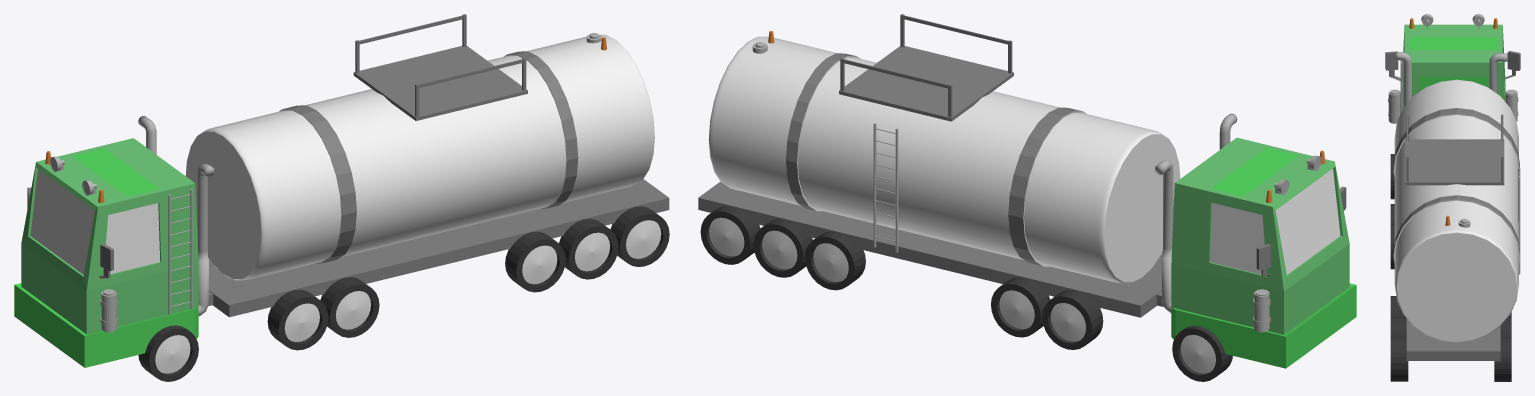
Rendered from Oil Green.fbx.
The picture shows the model from 3 angles, left to right: view 1: azimuth 30°, elevation 25°; view 2: azimuth 150°, elevation 25°; view 3: azimuth 270°, elevation 25°; orthographic projection. The views are drawn at different scales.
Visible parts, largest first — view 1: Cylinder.050, Truck Body.006, Cube.008, Cylinder.064, Cylinder.068, Cylinder.066, Cylinder.065, Cylinder.067, Cylinder.063, Cylinder.051, Cylinder.054, Cylinder.059; view 2: Cylinder.050, Truck Body.006, Cube.008, Cylinder.071, Cylinder.073, Cylinder.070, Cylinder.074, Cylinder.072, Cylinder.069, Cylinder.052, Cylinder.053, Cylinder.060; view 3: Cylinder.050, Truck Body.006, Cube.008, Cylinder.067, Cylinder.074, Cylinder.051, Cylinder.052, Cylinder.059, Cylinder.066, Cube.009, Cube.010, Cylinder.060 (+8 smaller).
Boxes of the visible parts, left/top/right/bottom form: Cylinder.050: left=185, top=34, right=654, bottom=280; Truck Body.006: left=14, top=138, right=669, bottom=367; Cube.008: left=353, top=14, right=527, bottom=120; Cylinder.064: left=267, top=289, right=328, bottom=350; Cylinder.068: left=505, top=231, right=565, bottom=292; Cylinder.066: left=559, top=219, right=618, bottom=279; Cylinder.065: left=320, top=277, right=379, bottom=337; Cylinder.067: left=610, top=206, right=669, bottom=266; Cylinder.063: left=138, top=325, right=198, bottom=381; Cylinder.051: left=197, top=164, right=214, bottom=316; Cylinder.054: left=168, top=189, right=192, bottom=314; Cylinder.059: left=100, top=289, right=117, bottom=332; Cylinder.050: left=708, top=36, right=1180, bottom=283; Truck Body.006: left=698, top=137, right=1356, bottom=368; Cube.008: left=839, top=14, right=1013, bottom=121; Cylinder.071: left=1042, top=290, right=1103, bottom=349; Cylinder.073: left=805, top=231, right=865, bottom=290; Cylinder.070: left=991, top=277, right=1050, bottom=337; Cylinder.074: left=700, top=206, right=760, bottom=264; Cylinder.072: left=753, top=219, right=812, bottom=277; Cylinder.069: left=1172, top=326, right=1232, bottom=381; Cylinder.052: left=1155, top=160, right=1173, bottom=312; Cylinder.053: left=873, top=123, right=898, bottom=252; Cylinder.060: left=1253, top=289, right=1270, bottom=332; Cylinder.050: left=1393, top=79, right=1519, bottom=342; Truck Body.006: left=1402, top=24, right=1505, bottom=360; Cube.008: left=1405, top=114, right=1504, bottom=185; Cylinder.067: left=1390, top=336, right=1408, bottom=381; Cylinder.074: left=1494, top=336, right=1511, bottom=381; Cylinder.051: left=1396, top=52, right=1411, bottom=106; Cylinder.052: left=1489, top=53, right=1507, bottom=93; Cylinder.059: left=1388, top=89, right=1400, bottom=123; Cylinder.066: left=1390, top=316, right=1406, bottom=336; Cube.009: left=1385, top=51, right=1400, bottom=80; Cube.010: left=1505, top=51, right=1520, bottom=79; Cylinder.060: left=1505, top=89, right=1518, bottom=121.
Size of the model in its own units: 899 by 330 by 224.
